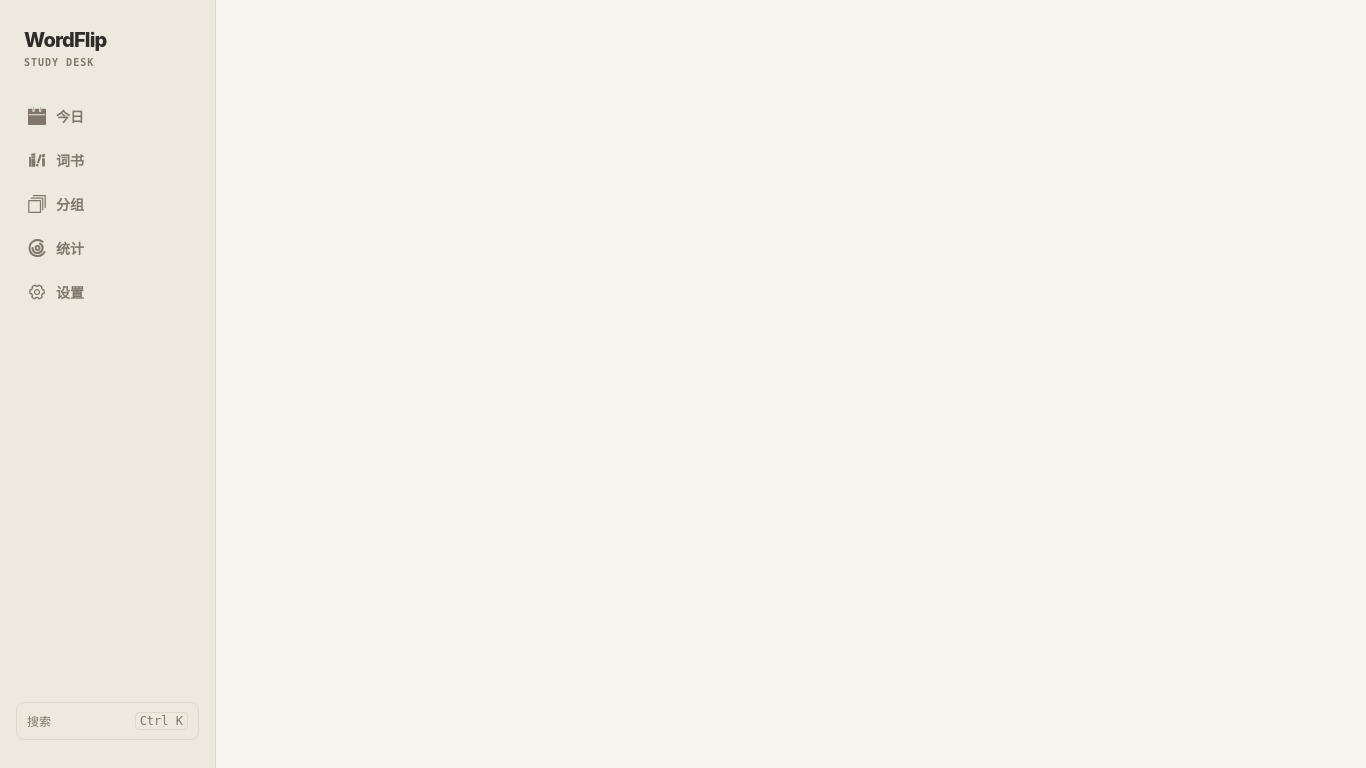
Scenario: 命令项由单个链接路径导航
Type keys "{Control>}k{/Control}"
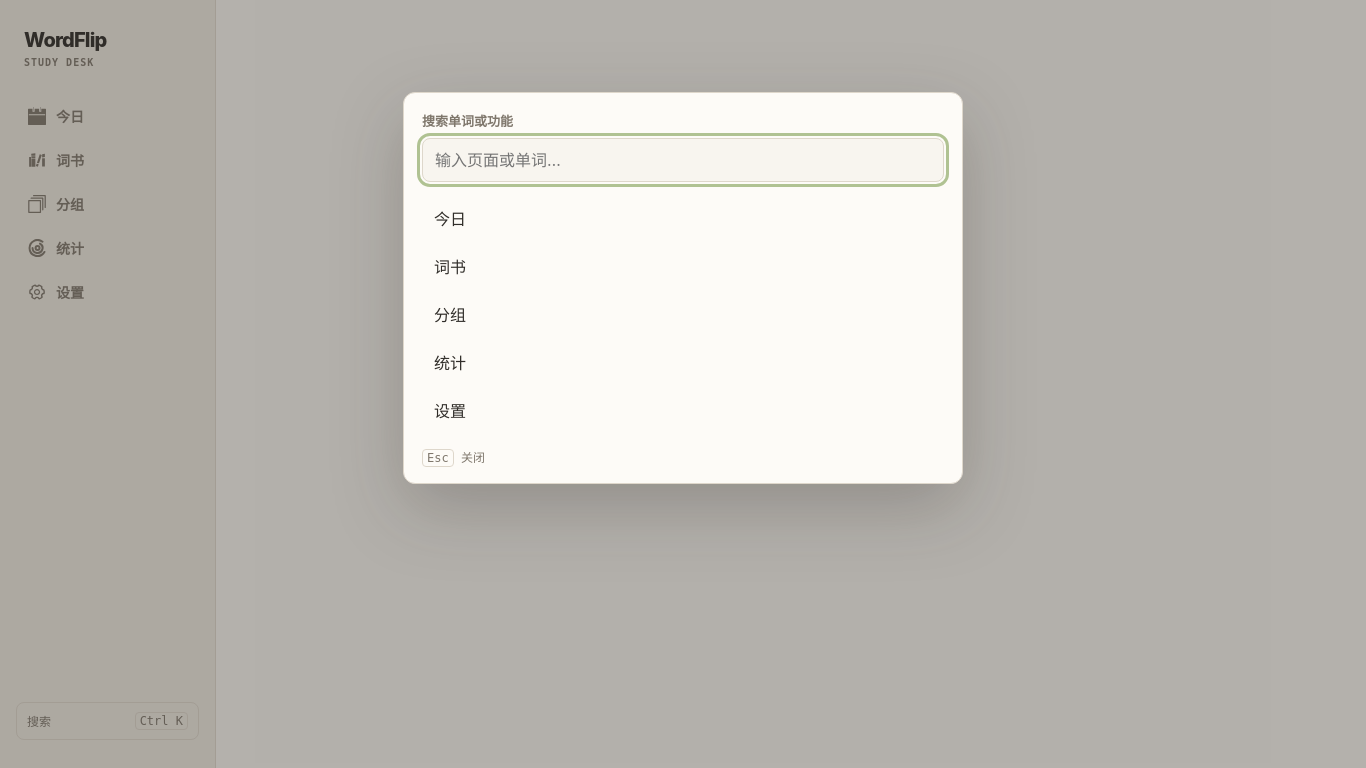
Click the link "词书": (450, 267) [434,257,466,277]
(page scrolled)
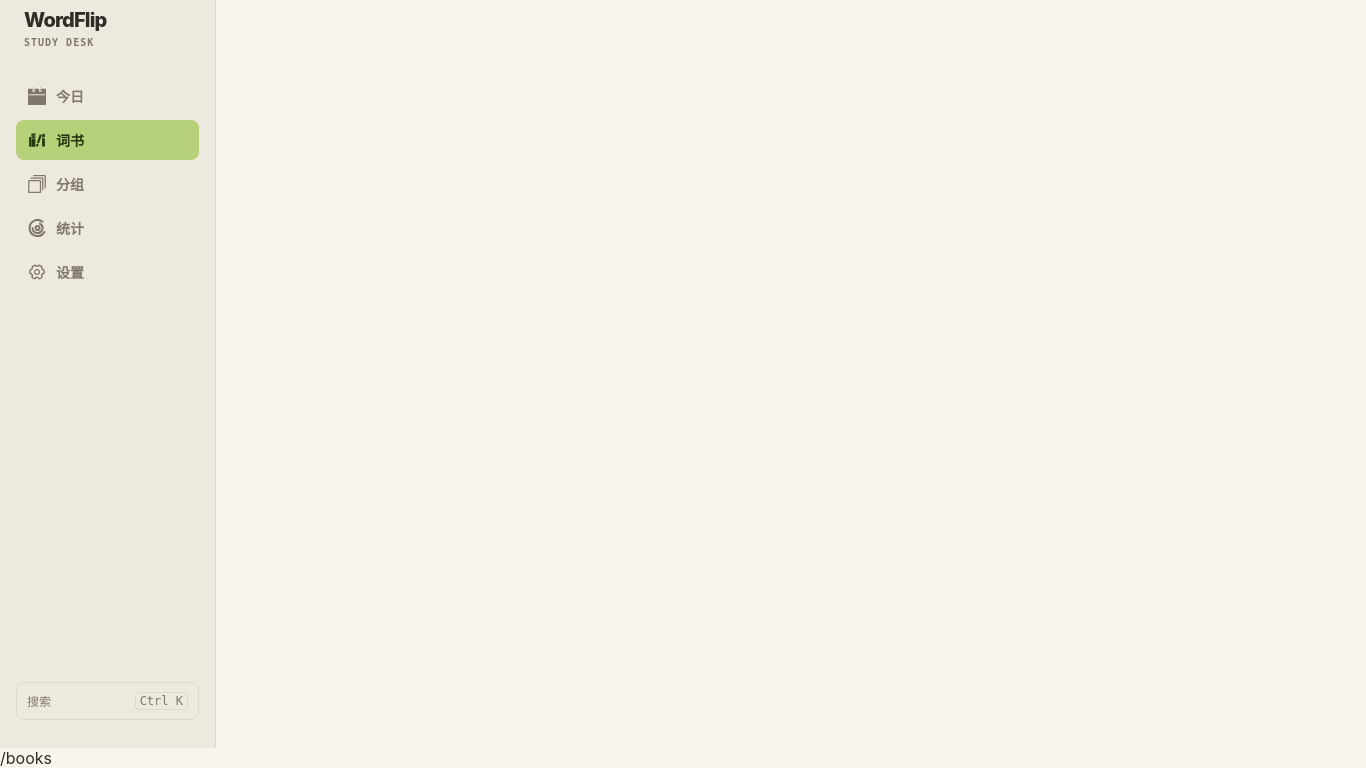
Expected: the text with test id "route-path" reads "/books", [0,748,52,767]
